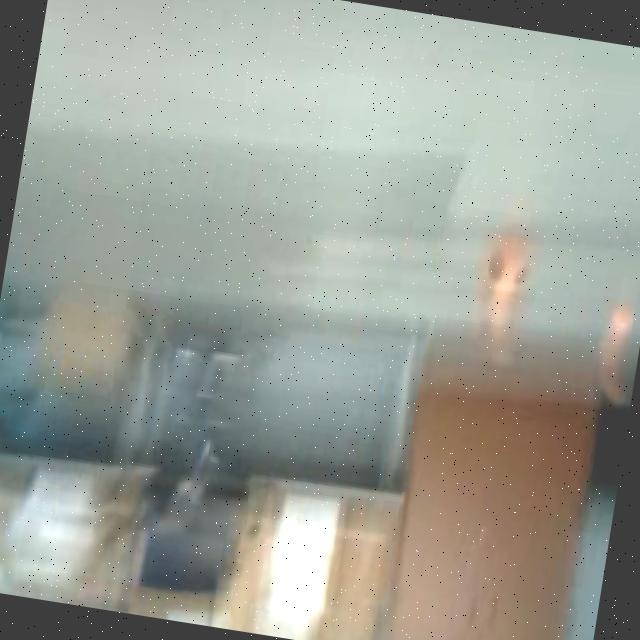ping-pong-ball: (476, 234, 539, 306)
